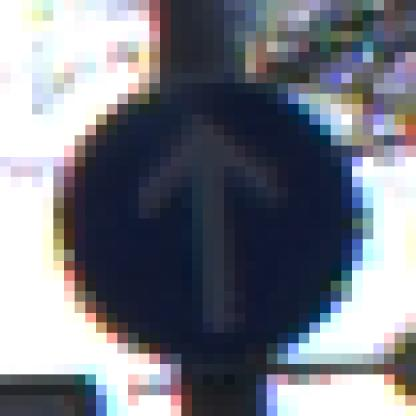AheadOnly: (54, 63, 364, 365)
